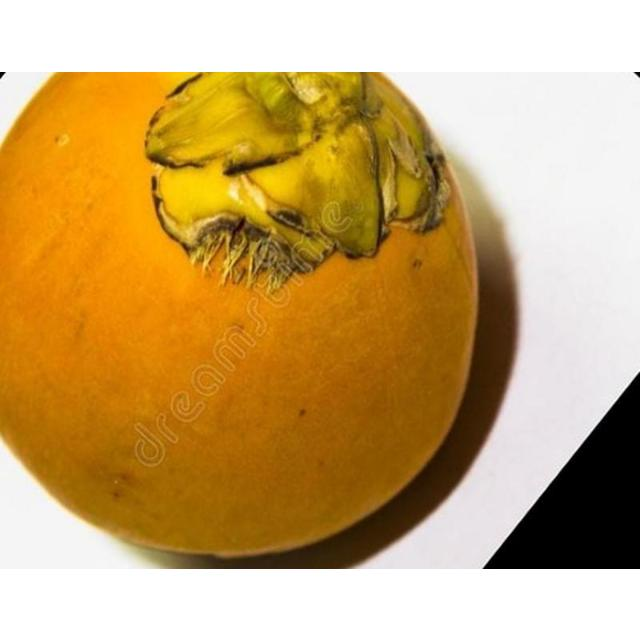good: (0, 71, 479, 557)
